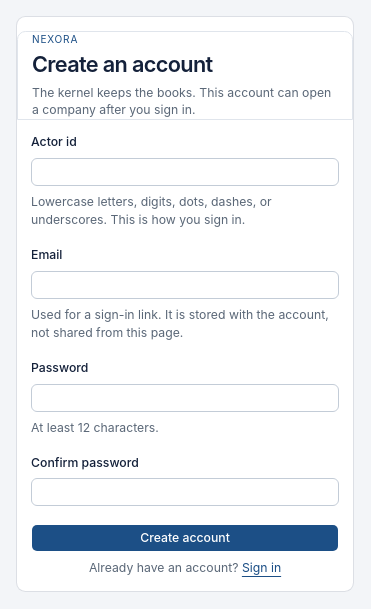
Test case: sign-up page › turns the disabled response into the same plain message
Type "ada.ok" into the field with test id "signup-actor" at (185, 172), box x1=31 y1=158 x2=339 y2=186
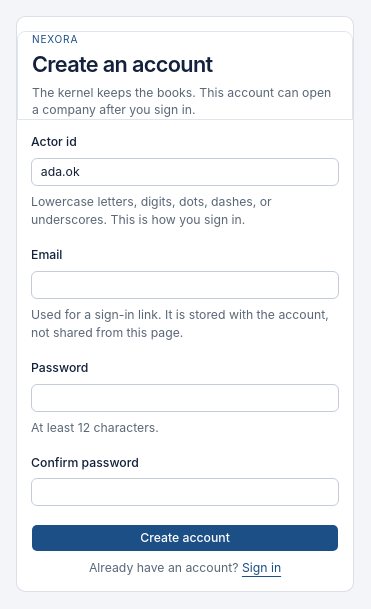
Type "ada.ok@example.com" into the field with test id "signup-email" at (185, 285), box x1=31 y1=271 x2=339 y2=299
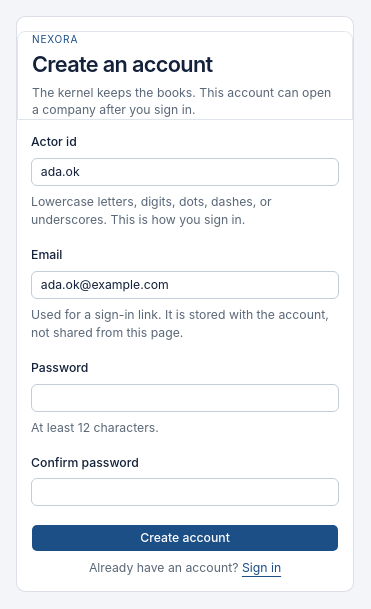
Type "correct horse battery staple" into the password field with test id "signup-password" at (185, 398), box x1=31 y1=384 x2=339 y2=412
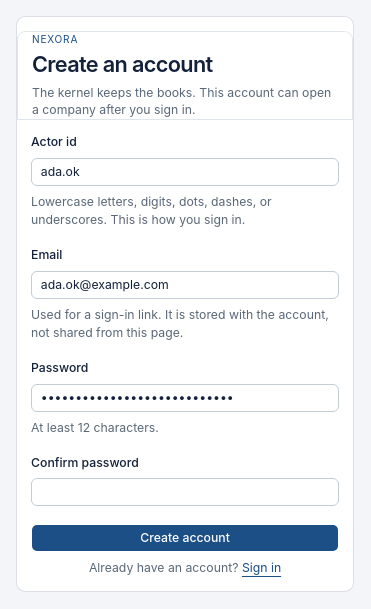
Type "correct horse battery staple" into the password field with test id "signup-confirm" at (185, 492), box x1=31 y1=478 x2=339 y2=506
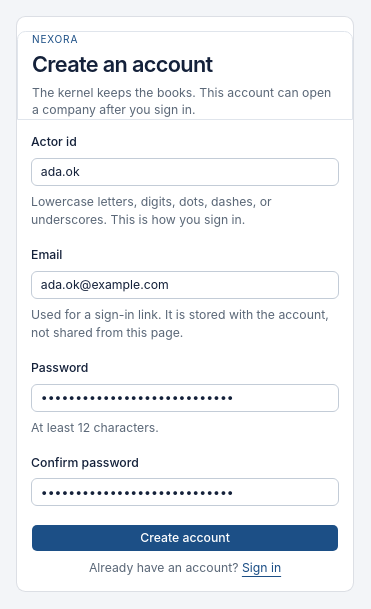
Click the button with test id "signup-submit" at (185, 538), box x1=31 y1=524 x2=339 y2=552
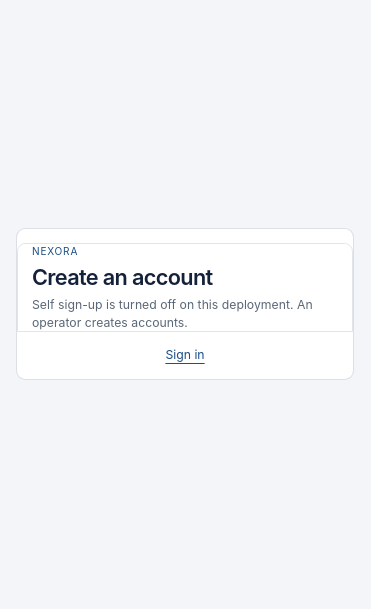
Check: the text with test id "signup-disabled" is shown, box x1=32 y1=296 x2=338 y2=331
